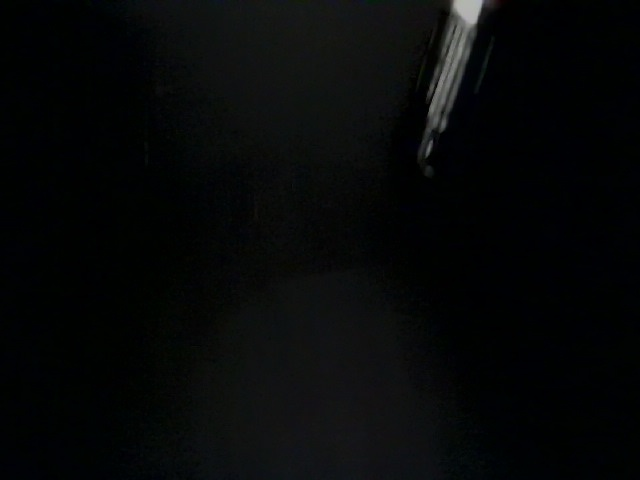QTLJ: (320, 374, 524, 480)
